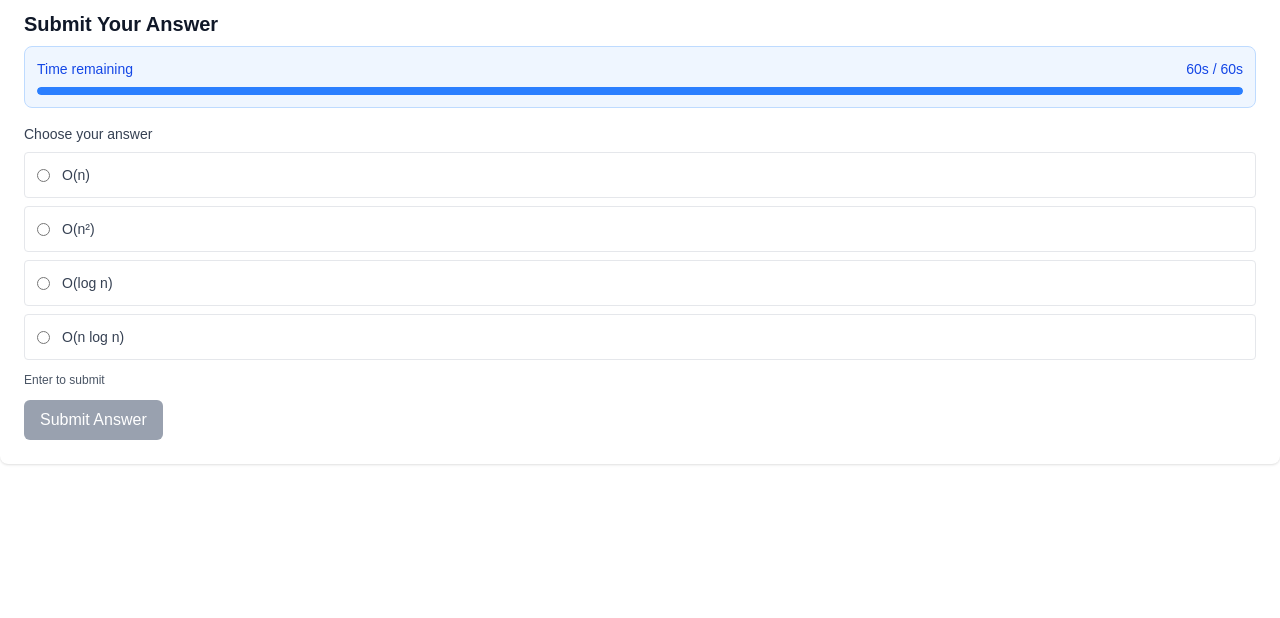
Scenario: MultipleChoiceForm › should show "Correct!" when result is correct
The image size is (1280, 618).
What coordinates should you click on to do the following:
click the radio button labelled "O(log n)"
I would click on:
 (44, 283)
Its box is [37,276,50,290].
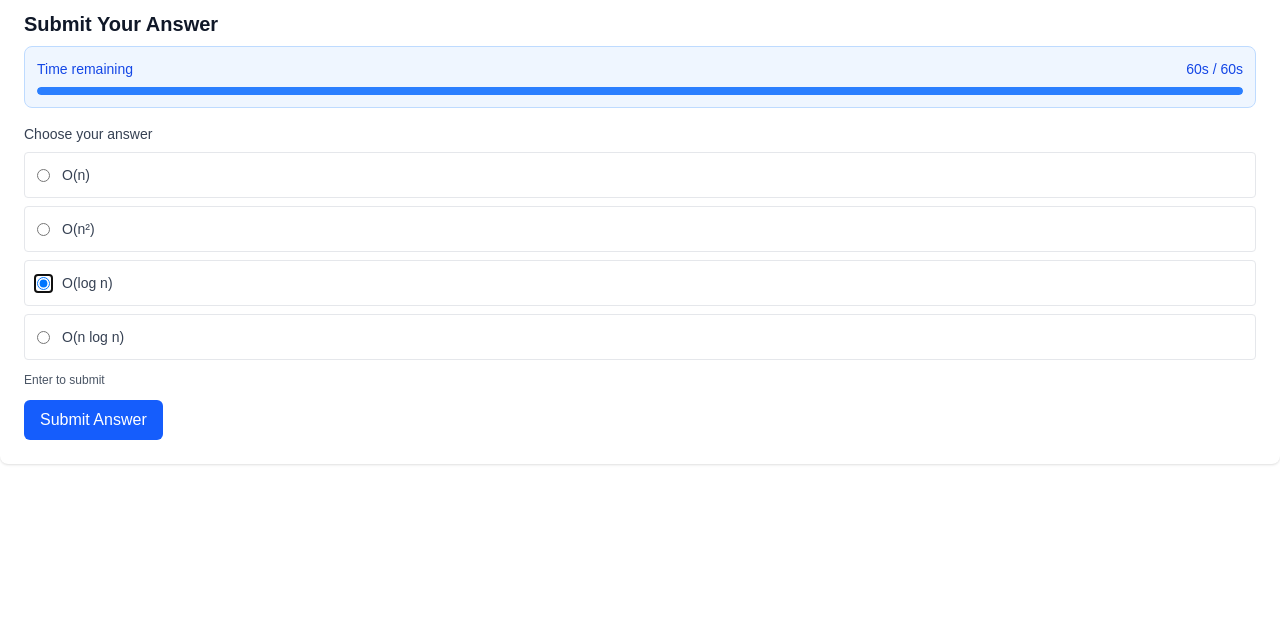
What coordinates should you click on to do the following:
click the button "Submit Answer"
I would click on:
 (93, 420)
Its box is [24,400,163,440].
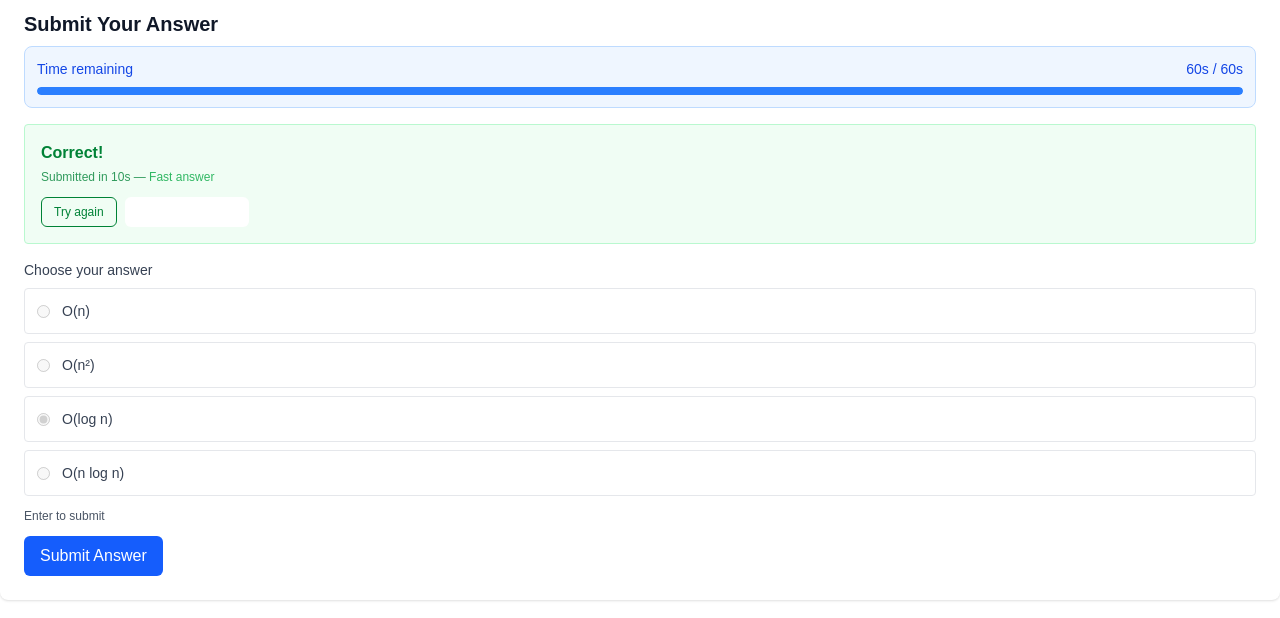
Expected: the text "Correct!" is shown, [41,144,103,161]
